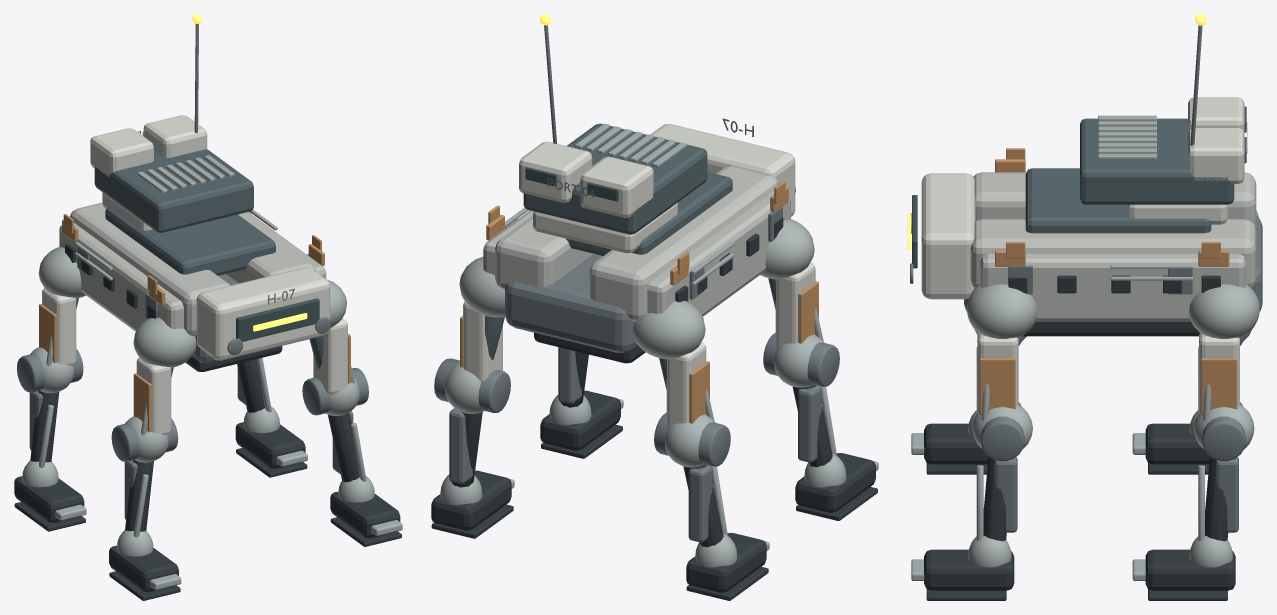
The model's file is hound.glb.
3 renders of one model, left to right at view 1: azimuth 30°, elevation 25°; view 2: azimuth 150°, elevation 25°; view 3: azimuth 270°, elevation 25°, orthographic. The views are drawn at different scales.
Parts seen in each view (by area): view 1: Render_VisualRoot_Anodized_frame, Render_VisualRoot_Off-white_shell, Render_VisualRoot_Ivory_enamel, Render_Knee_2_Black_elastomer, Render_Knee_0_Black_elastomer, Render_Knee_1_Black_elastomer, Render_Knee_3_Black_elastomer, Render_Knee_0_Brushed_titanium, Render_Knee_1_Brushed_titanium, Render_Leg_0_Brushed_titanium, Render_VisualRoot_Brushed_titanium, Render_Knee_2_Brushed_titanium (+15 smaller); view 2: Render_VisualRoot_Ivory_enamel, Render_VisualRoot_Off-white_shell, Render_VisualRoot_Anodized_frame, Render_VisualRoot_Cast_grey_metal, Render_Knee_3_Black_elastomer, Render_Knee_0_Black_elastomer, Render_Knee_1_Black_elastomer, Render_Knee_2_Black_elastomer, Render_Knee_1_Cast_grey_metal, Render_Leg_1_Brushed_titanium, Render_Knee_0_Cast_grey_metal, Render_Knee_3_Cast_grey_metal (+16 smaller); view 3: Render_VisualRoot_Ivory_enamel, Render_VisualRoot_Anodized_frame, Render_VisualRoot_Off-white_shell, Render_Knee_2_Black_elastomer, Render_Knee_3_Black_elastomer, Render_VisualRoot_Black_elastomer, Render_Leg_3_Brushed_titanium, Render_Leg_2_Brushed_titanium, Render_VisualRoot_Brushed_titanium, Render_Knee_2_Brushed_titanium, Render_Knee_3_Brushed_titanium, Render_Knee_2_Cast_grey_metal (+12 smaller).
Part boxes in pixels (x1=…): Render_VisualRoot_Anodized_frame: x1=94, y1=149, x2=275, y2=275; Render_VisualRoot_Off-white_shell: x1=90, y1=115, x2=330, y2=360; Render_VisualRoot_Ivory_enamel: x1=59, y1=202, x2=326, y2=335; Render_Knee_2_Black_elastomer: x1=328, y1=412, x2=401, y2=546; Render_Knee_0_Black_elastomer: x1=109, y1=460, x2=180, y2=600; Render_Knee_1_Black_elastomer: x1=14, y1=390, x2=85, y2=531; Render_Knee_3_Black_elastomer: x1=235, y1=359, x2=307, y2=477; Render_Knee_0_Brushed_titanium: x1=117, y1=416, x2=181, y2=589; Render_Knee_1_Brushed_titanium: x1=22, y1=347, x2=86, y2=520; Render_Leg_0_Brushed_titanium: x1=133, y1=317, x2=196, y2=435; Render_VisualRoot_Brushed_titanium: x1=75, y1=155, x2=277, y2=280; Render_Knee_2_Brushed_titanium: x1=325, y1=377, x2=402, y2=535; Render_VisualRoot_Ivory_enamel: x1=483, y1=166, x2=790, y2=321; Render_VisualRoot_Off-white_shell: x1=519, y1=123, x2=795, y2=253; Render_VisualRoot_Anodized_frame: x1=523, y1=123, x2=732, y2=255; Render_VisualRoot_Cast_grey_metal: x1=505, y1=25, x2=795, y2=353; Render_Knee_3_Black_elastomer: x1=431, y1=412, x2=513, y2=538; Render_Knee_0_Black_elastomer: x1=792, y1=384, x2=877, y2=520; Render_Knee_1_Black_elastomer: x1=683, y1=464, x2=768, y2=600; Render_Knee_2_Black_elastomer: x1=540, y1=351, x2=622, y2=458; Render_Knee_1_Cast_grey_metal: x1=654, y1=412, x2=730, y2=542; Render_Leg_1_Brushed_titanium: x1=633, y1=301, x2=714, y2=421; Render_Knee_0_Cast_grey_metal: x1=763, y1=333, x2=839, y2=462; Render_Knee_3_Cast_grey_metal: x1=434, y1=358, x2=510, y2=483; Render_VisualRoot_Ivory_enamel: x1=970, y1=172, x2=1256, y2=321; Render_VisualRoot_Anodized_frame: x1=1025, y1=118, x2=1234, y2=233; Render_VisualRoot_Off-white_shell: x1=921, y1=97, x2=1244, y2=299; Render_Knee_2_Black_elastomer: x1=924, y1=456, x2=1014, y2=600; Render_Knee_3_Black_elastomer: x1=1145, y1=456, x2=1235, y2=600; Render_VisualRoot_Black_elastomer: x1=1008, y1=275, x2=1220, y2=336; Render_Leg_3_Brushed_titanium: x1=1189, y1=284, x2=1259, y2=420; Render_Leg_2_Brushed_titanium: x1=966, y1=284, x2=1037, y2=420; Render_VisualRoot_Brushed_titanium: x1=1098, y1=115, x2=1193, y2=280; Render_Knee_2_Brushed_titanium: x1=911, y1=405, x2=1032, y2=580; Render_Knee_3_Brushed_titanium: x1=1132, y1=404, x2=1254, y2=580; Render_Knee_2_Cast_grey_metal: x1=980, y1=402, x2=1024, y2=532.
Size of the model in its own units: 1.36 by 2.3 by 1.38.
